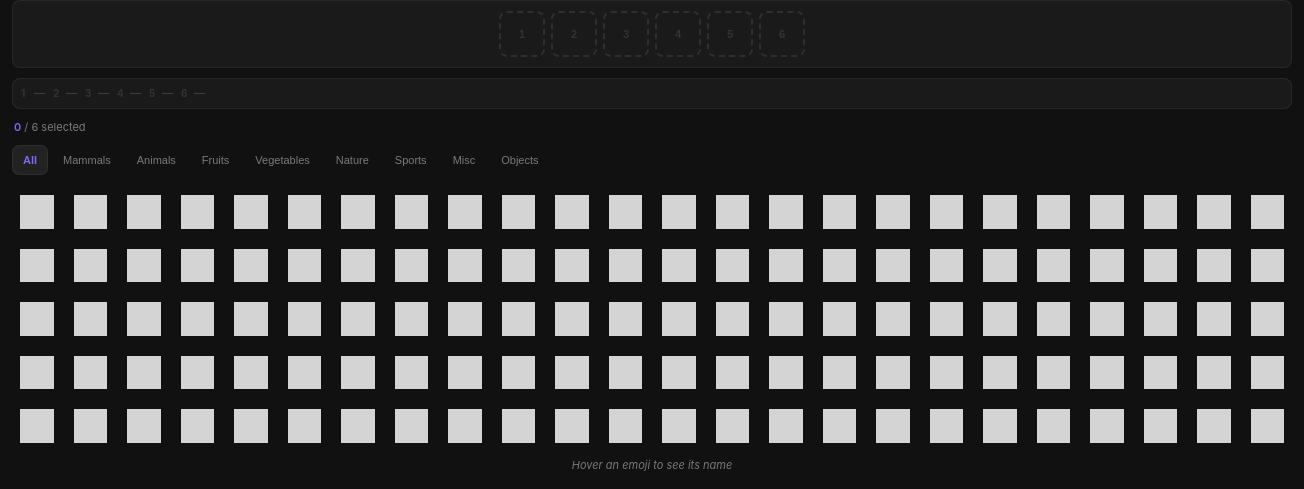
it: EmojiPicker — hover info bar › reverts to the hint text on mouse leave
Hover over the option named "dog face".
mouse_move(37, 212)  # box [12, 187, 62, 236]
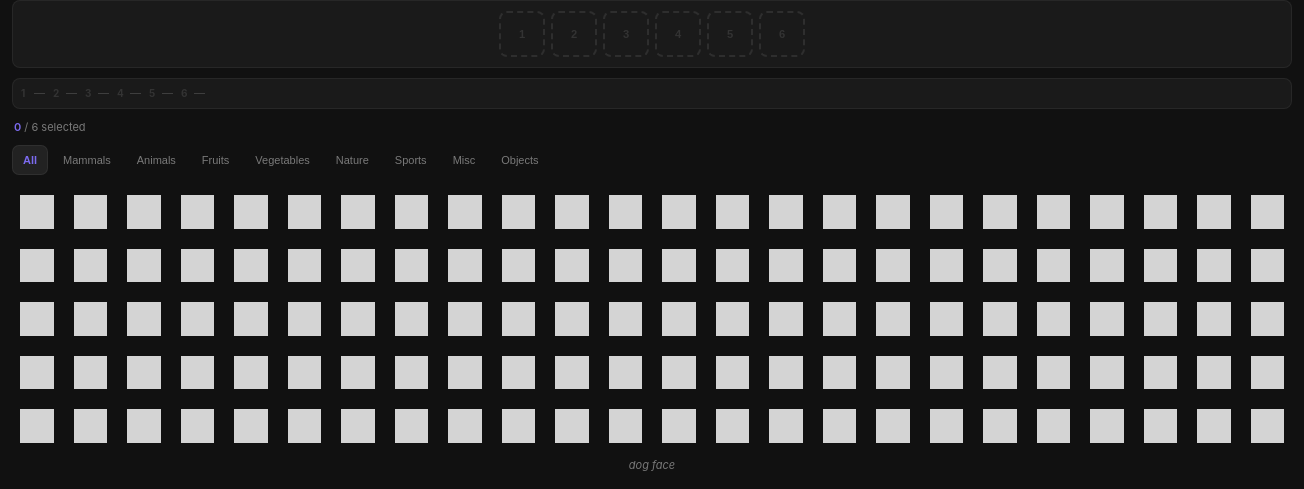
Move the pointer off the option named "dog face", box [12, 187, 62, 236]
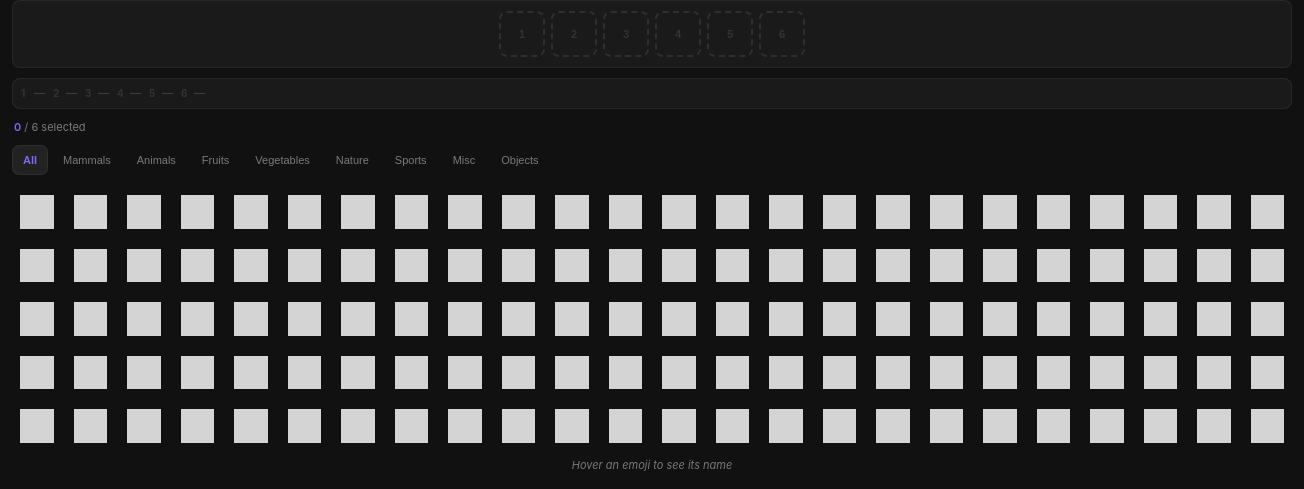
expect the text "Hover an emoji to see its name" is shown: met, box [572, 458, 732, 472]
